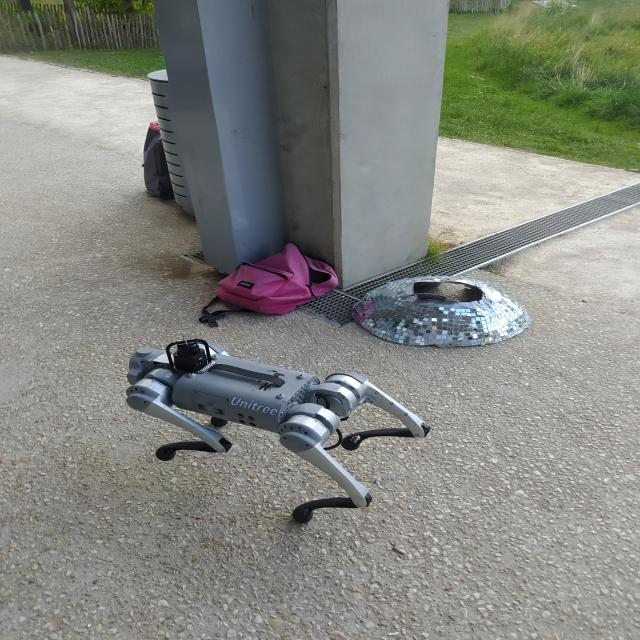unitree-go1-robot: (116, 323, 441, 535)
